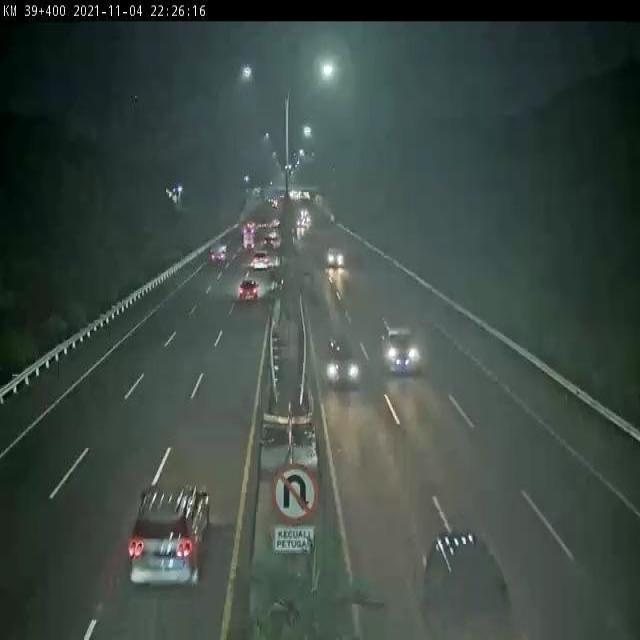Car: (114, 468, 220, 588), (421, 528, 508, 632), (380, 321, 422, 377), (324, 337, 361, 389), (250, 249, 270, 275), (238, 279, 259, 301), (325, 248, 346, 269), (209, 243, 227, 265)
Truck: (238, 220, 258, 252)
